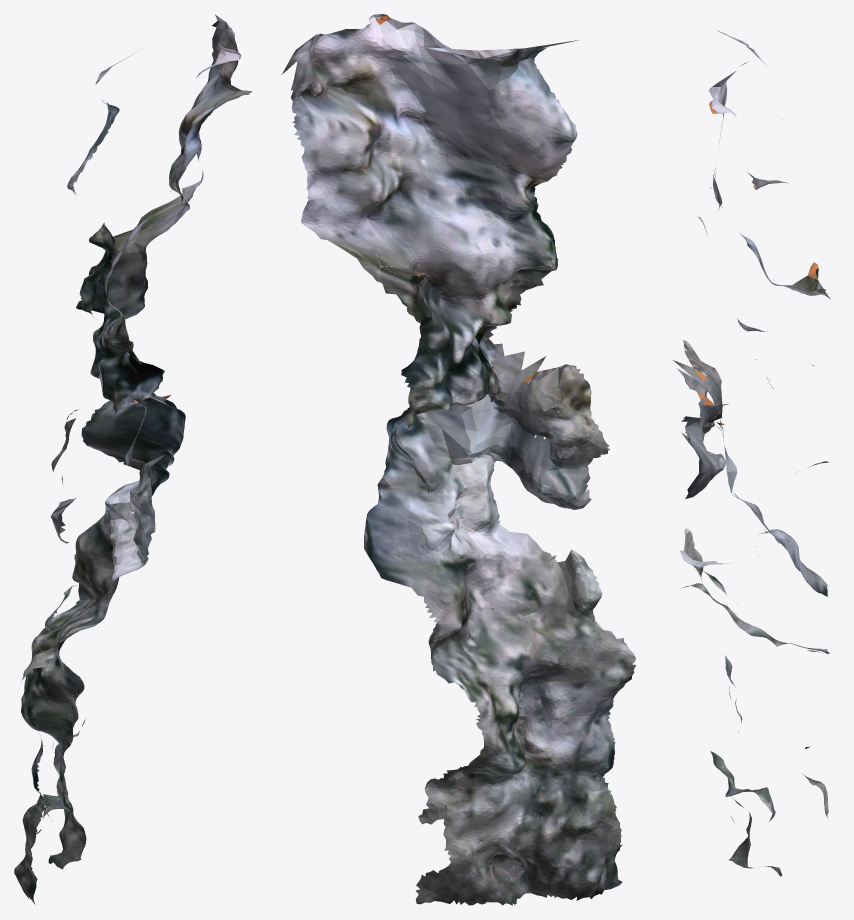
The model's file is tile_0581.gltf.
3 views of the same model, side by side, from view 1: azimuth 30°, elevation 25°; view 2: azimuth 150°, elevation 25°; view 3: azimuth 270°, elevation 25° (orthographic). The views are drawn at different scales.
Visible parts, largest first — view 1: defaultobject; view 2: defaultobject; view 3: defaultobject.
Part boxes in pixels (x1,y1,x2,y2): defaultobject: [14, 14, 251, 904]; defaultobject: [281, 14, 636, 905]; defaultobject: [673, 30, 830, 876].
Size of the model in its own units: 0.4405 by 1.25 by 0.2312.
2 materials, 2 textured.
